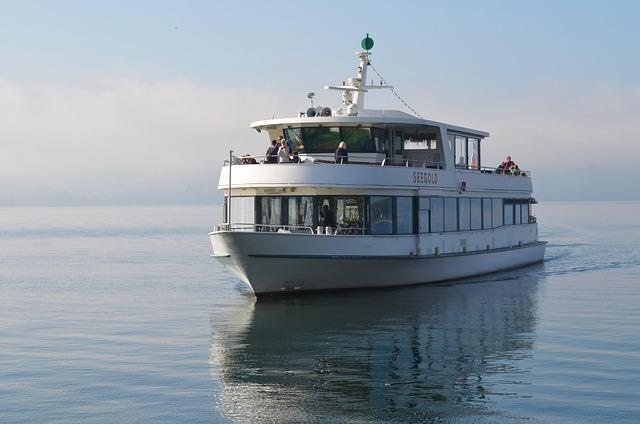Non_Gorille: (180, 13, 619, 374)
